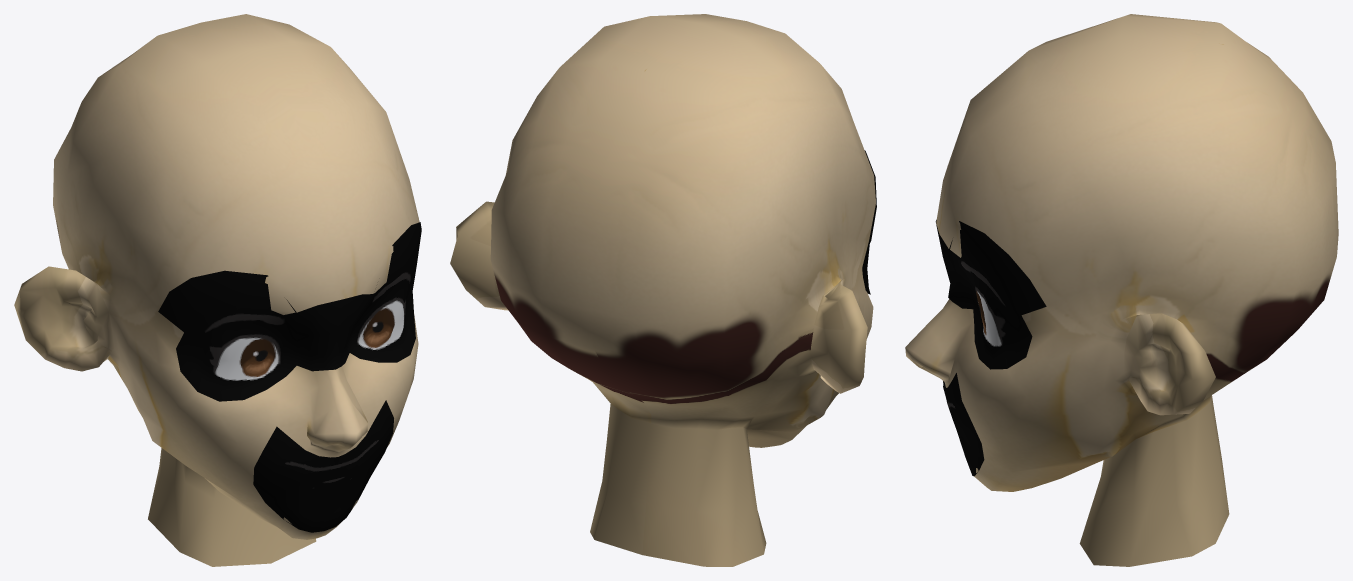
Rendered from F_Head_01.fbx.
3 views of the same model, side by side, from view 1: azimuth 30°, elevation 25°; view 2: azimuth 150°, elevation 25°; view 3: azimuth 270°, elevation 25° (orthographic). The views are drawn at different scales.
Parts seen in each view (by area): view 1: MDL_F_Head_01; view 2: MDL_F_Head_01; view 3: MDL_F_Head_01.
Part boxes in pixels (x1,y1,x2,y2): MDL_F_Head_01: [14, 14, 421, 566]; MDL_F_Head_01: [450, 14, 876, 566]; MDL_F_Head_01: [905, 14, 1338, 566].
Size of the model in its own units: 3.95 by 4.78 by 3.7.
